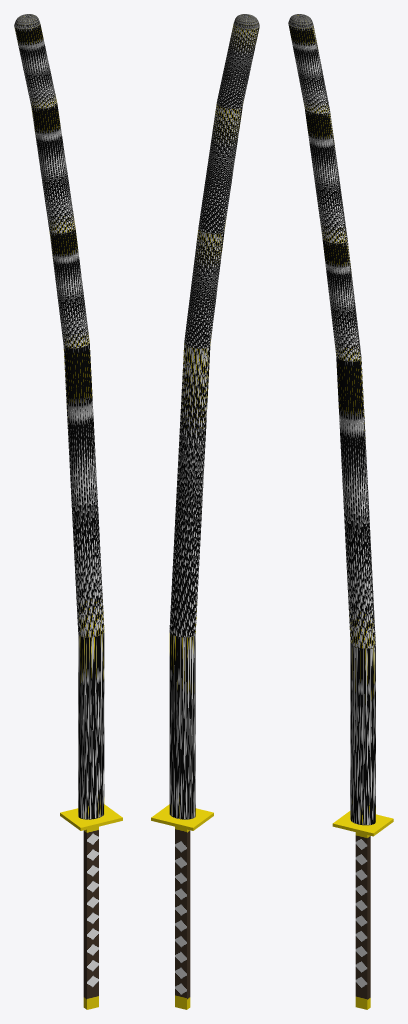
Rendered from masamune.obj.
3 renders of one model, left to right at view 1: azimuth 30°, elevation 25°; view 2: azimuth 150°, elevation 25°; view 3: azimuth 330°, elevation 25°, orthographic. The views are drawn at different scales.
Visible parts, largest first — view 1: sheath, grip; view 2: sheath, grip; view 3: sheath, grip.
Part boxes in pixels (x1=…): sheath: x1=14, y1=14, x2=104, y2=819; grip: x1=60, y1=804, x2=122, y2=1009; sheath: x1=169, y1=14, x2=259, y2=819; grip: x1=151, y1=804, x2=213, y2=1009; sheath: x1=288, y1=14, x2=375, y2=825; grip: x1=332, y1=811, x2=393, y2=1009.
Bounding box in the file's own units: 3.23 × 31.97 × 1.2.
